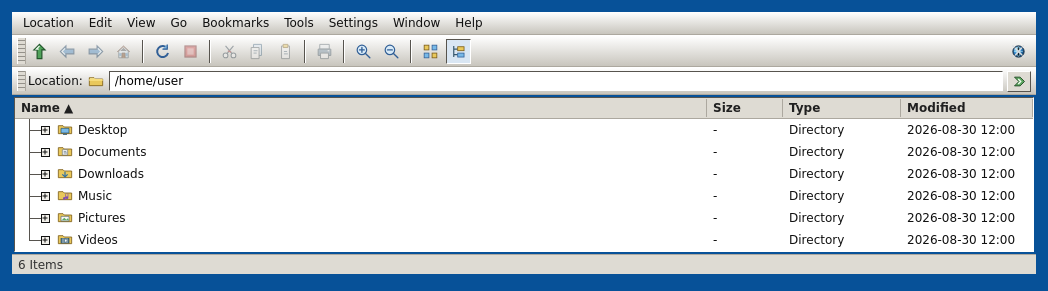
Test case: Konqueror Resource Manager toolbar › navigates through the real VFS parents above Home without resetting Resource presentation
The width and height of the screenshot is (1048, 291).
Step 1. Click the button named "Zoom Out" → (392, 51), box [379,38,404,64]
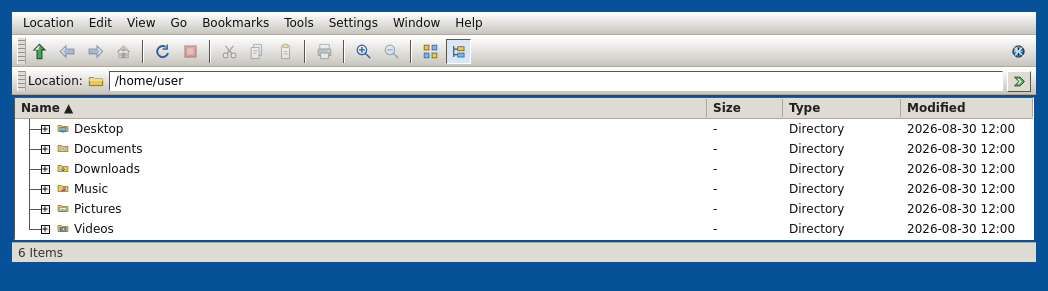
Step 2. Click the button named "Up" → (40, 51), box [27,38,52,64]
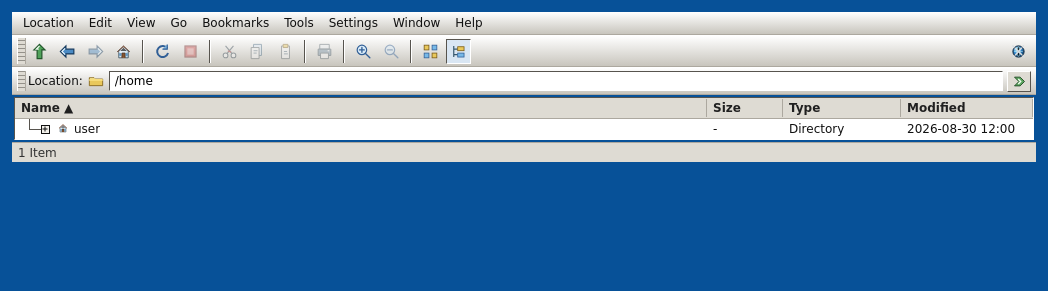
Expected: the list is shown, [15,98,1033,139]
Result: the field with id "konqueror-location" holds "/home" at [109,71,1003,91]
Step 3. Click the button named "Up" → (40, 51), box [27,38,52,64]
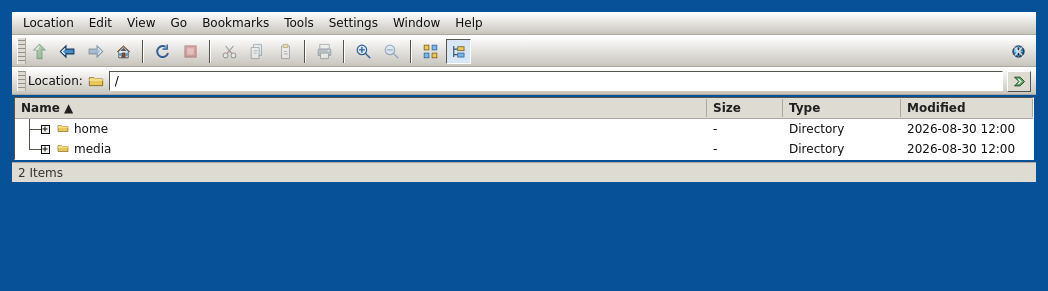
Expected: the list is shown, [15,98,1033,159]
Result: the field with id "konqueror-location" holds "/" at [109,71,1003,91]
Result: the button named "Up" is disabled at [27,38,52,64]
Step 4. Click the button named "Back" → (68, 51), box [55,38,80,64]
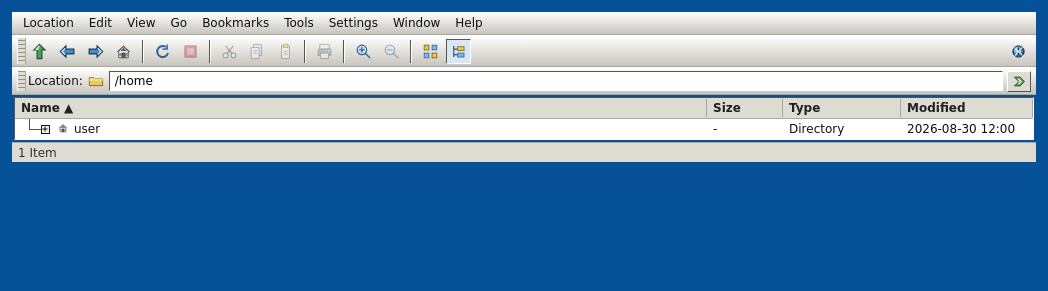
Result: the field with id "konqueror-location" holds "/home" at [109,71,1003,91]
Step 5. Click the button named "Back" → (68, 51), box [55,38,80,64]
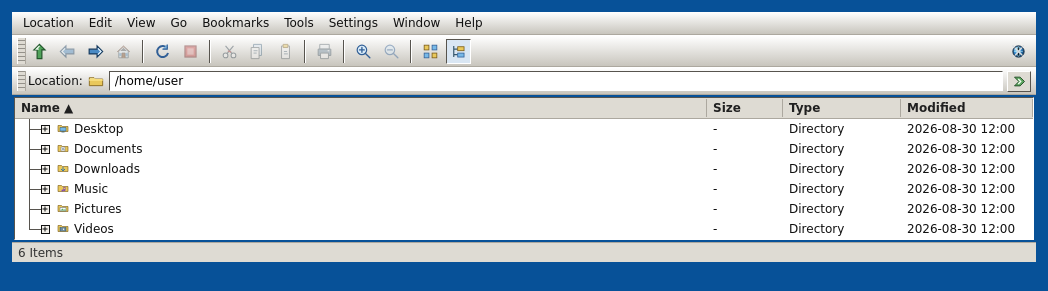
Expected: the list is shown, [15,98,1033,239]
Result: the field with id "konqueror-location" holds "/home/user" at [109,71,1003,91]
